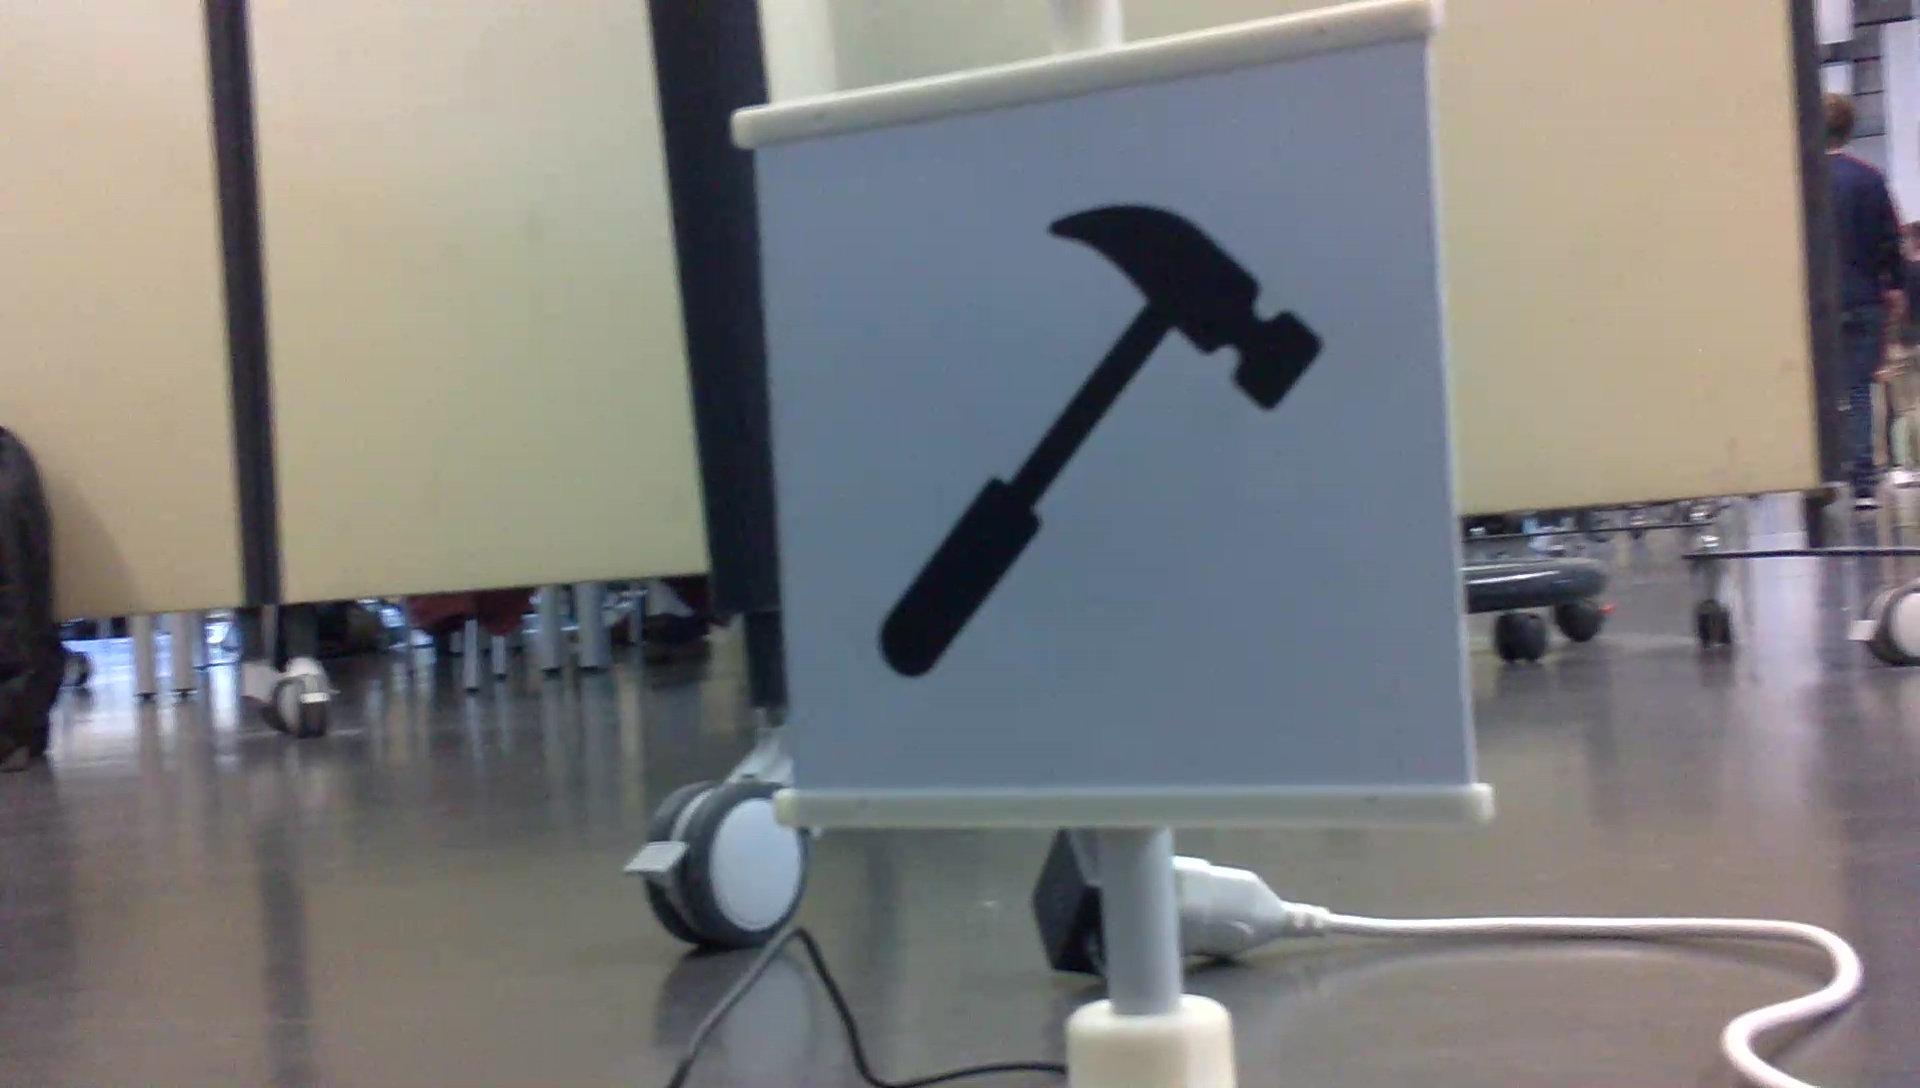hammer: (855, 187, 1331, 700)
